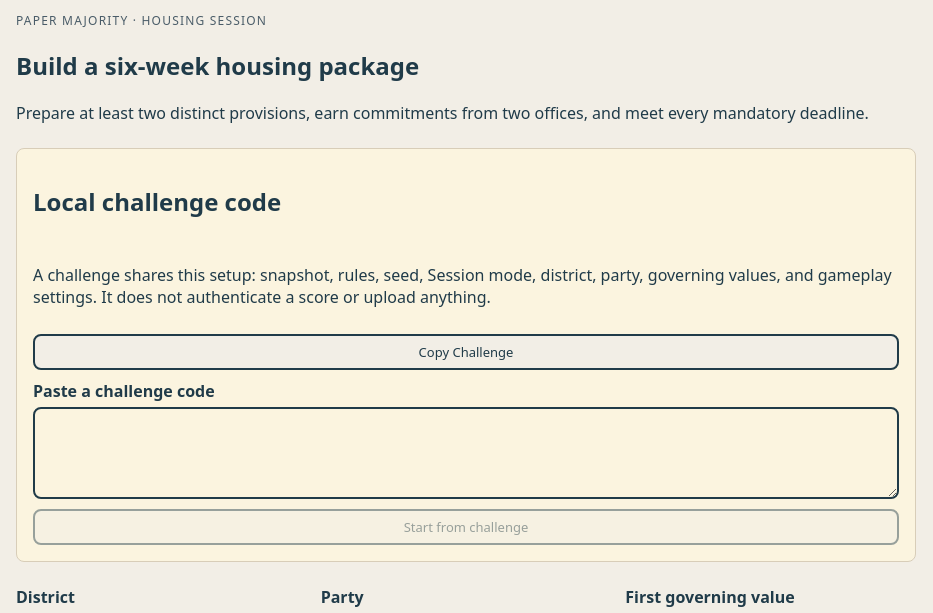
Scenario: SessionSetup challenge controls › copies the complete selected setup through the local clipboard control
The width and height of the screenshot is (933, 613).
Click the button with test id "copy-challenge-setup".
click(466, 352)  # box [33,334,899,370]
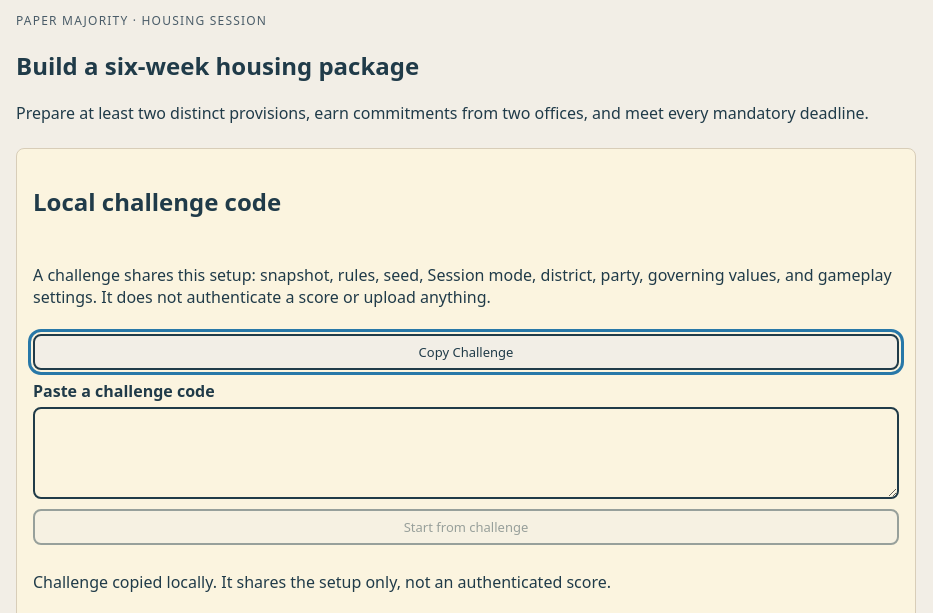
Expected: the message with test id "challenge-notice" reads "Challenge copied locally. It shares the setup only, not an authenticated score.", [33,571,611,593]
